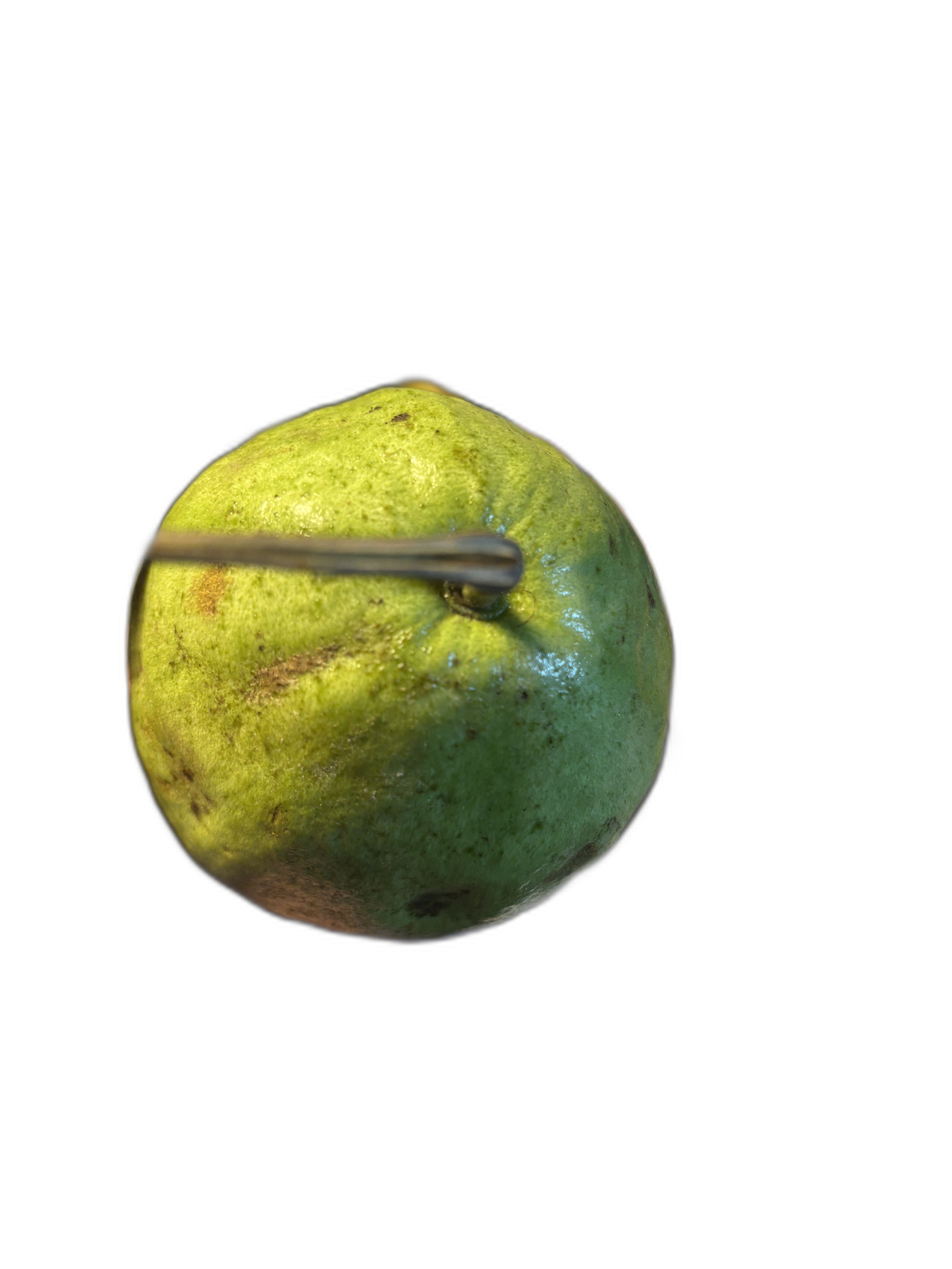guava: (254, 131, 869, 1121)
